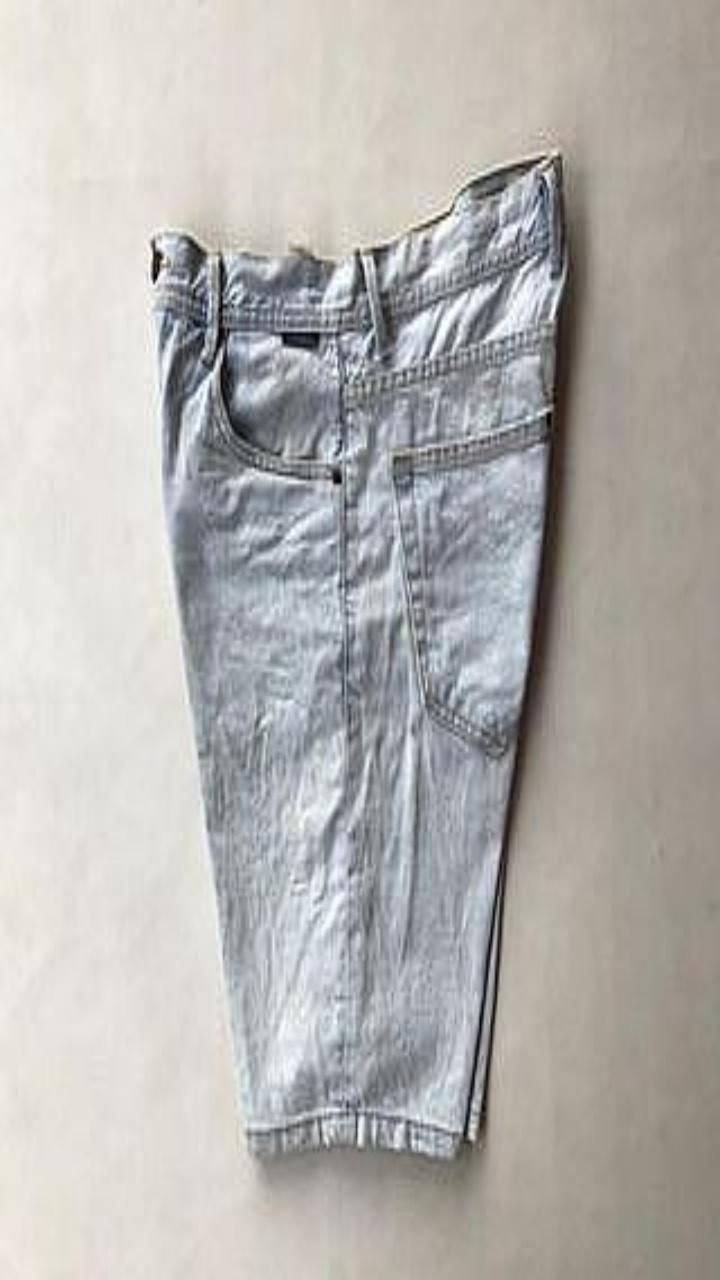Shorts: (151, 148, 567, 1156)
